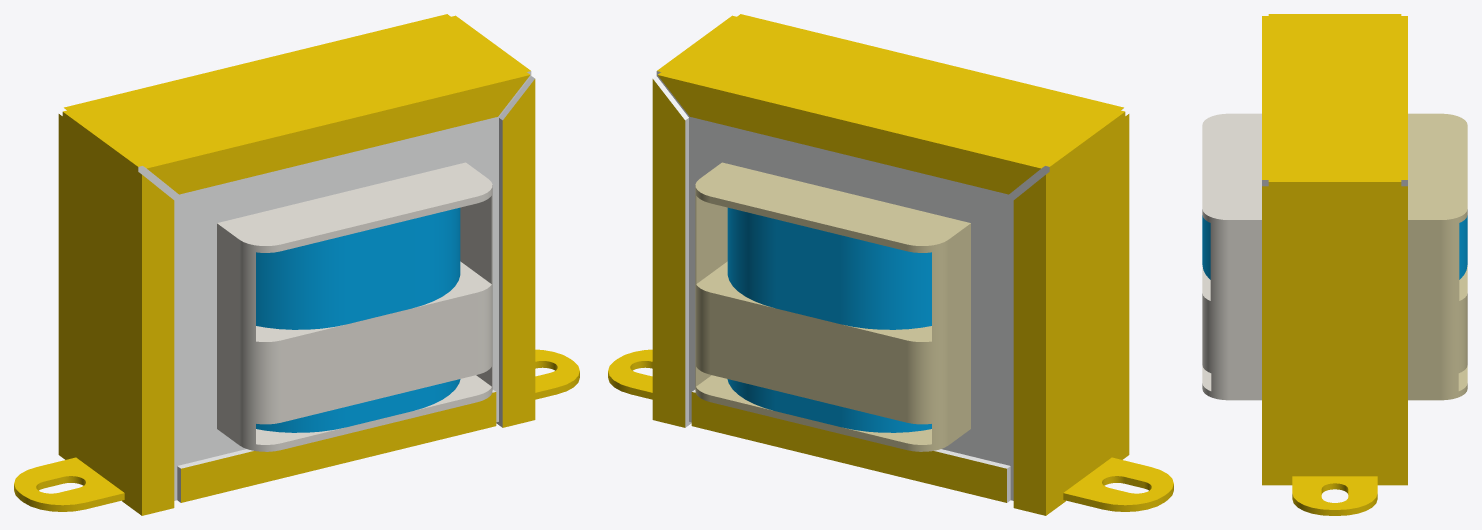
File: uydu7.glb
3 renders of one model, left to right at view 1: azimuth 30°, elevation 25°; view 2: azimuth 150°, elevation 25°; view 3: azimuth 270°, elevation 25°, orthographic. The views are drawn at different scales.
Visible parts, largest first — view 1: Part6 (×5); view 2: Part6 (×5); view 3: Part6 (×4).
Boxes of the visible parts, <box> form: Part6 (×5): <box>14,14,579,515</box>; Part6 (×5): <box>608,14,1173,515</box>; Part6 (×4): <box>1202,14,1467,515</box>.
Size of the model in its own units: 0.084 by 0.0505 by 0.04.
